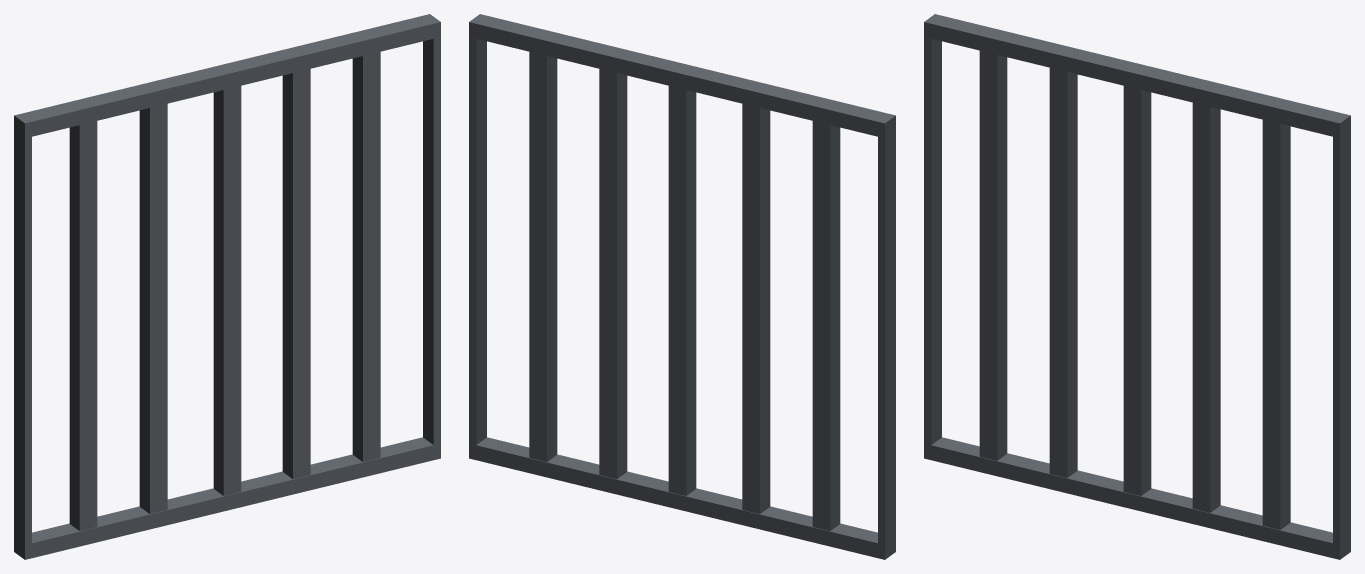
The model's file is SD_Env_PrisonCell_Wall_01.fbx.
3 views of the same model, side by side, from view 1: azimuth 30°, elevation 25°; view 2: azimuth 150°, elevation 25°; view 3: azimuth 330°, elevation 25° (orthographic).
Parts seen in each view (by area): view 1: SD_Env_PrisonCell_Wall_01; view 2: SD_Env_PrisonCell_Wall_01; view 3: SD_Env_PrisonCell_Wall_01.
Part boxes in pixels (x1,y1,x2,y2): SD_Env_PrisonCell_Wall_01: (14,14,440,559); SD_Env_PrisonCell_Wall_01: (469,14,895,559); SD_Env_PrisonCell_Wall_01: (924,14,1350,559).
Bounding box in the file's own units: 5 × 5.01 × 0.2285.
